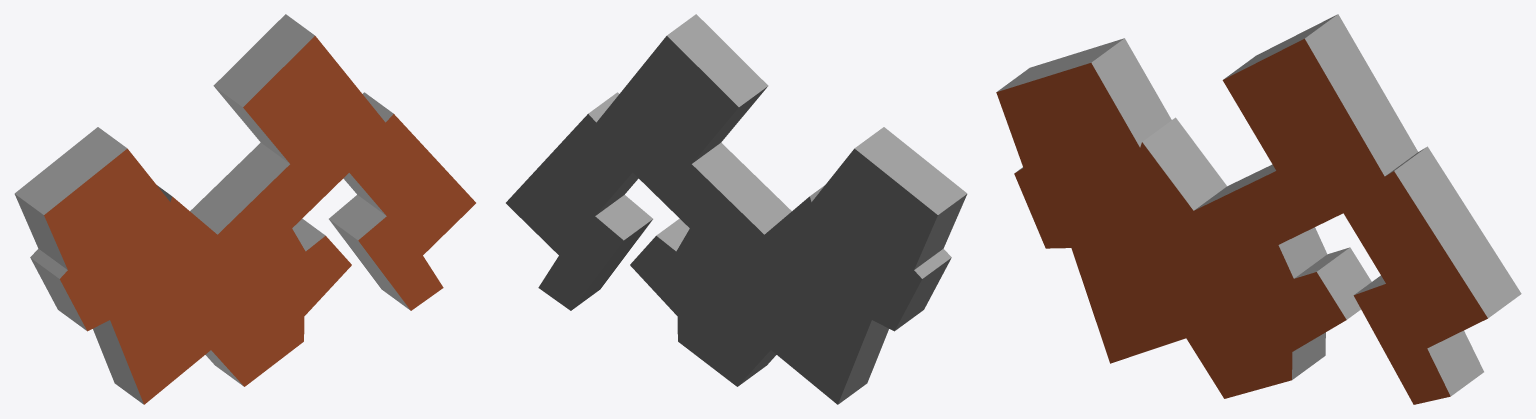
Rendered from construction_1638_assumed_A_Casa_h6m.obj.
The picture shows the model from 3 angles, left to right: view 1: azimuth 30°, elevation 25°; view 2: azimuth 150°, elevation 25°; view 3: azimuth 330°, elevation 25°; orthographic projection. The views are drawn at different scales.
Parts seen in each view (by area): view 1: construction_1638_assumed_A_Casa; view 2: construction_1638_assumed_A_Casa; view 3: construction_1638_assumed_A_Casa.
Part boxes in pixels (box(x1,y1,x2,y2)): construction_1638_assumed_A_Casa: box(14, 14, 475, 404); construction_1638_assumed_A_Casa: box(506, 14, 967, 404); construction_1638_assumed_A_Casa: box(996, 14, 1521, 404).
Size of the model in its own units: 50.75 by 37.47 by 6.
